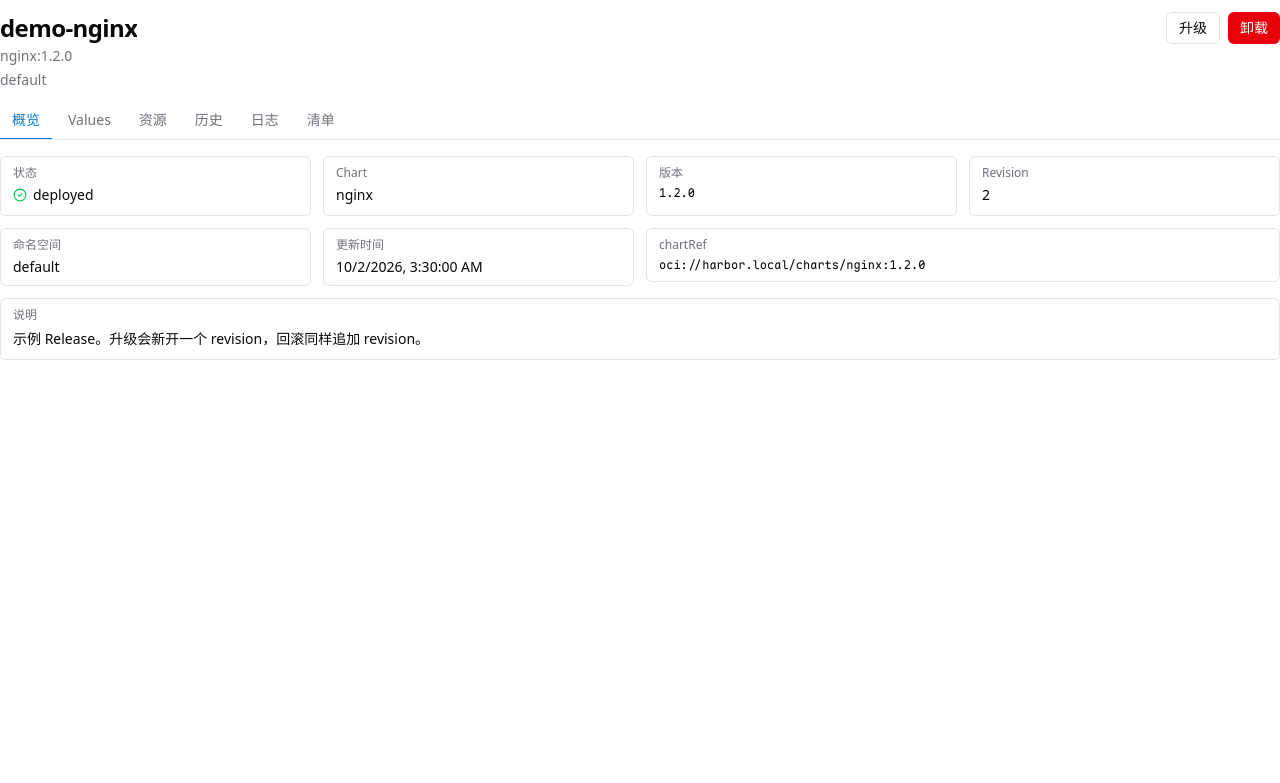
Scenario: helm pages › shows release detail tabs and the upgrade drawer
Click the tab "历史": click(209, 121) [183, 102, 235, 140]
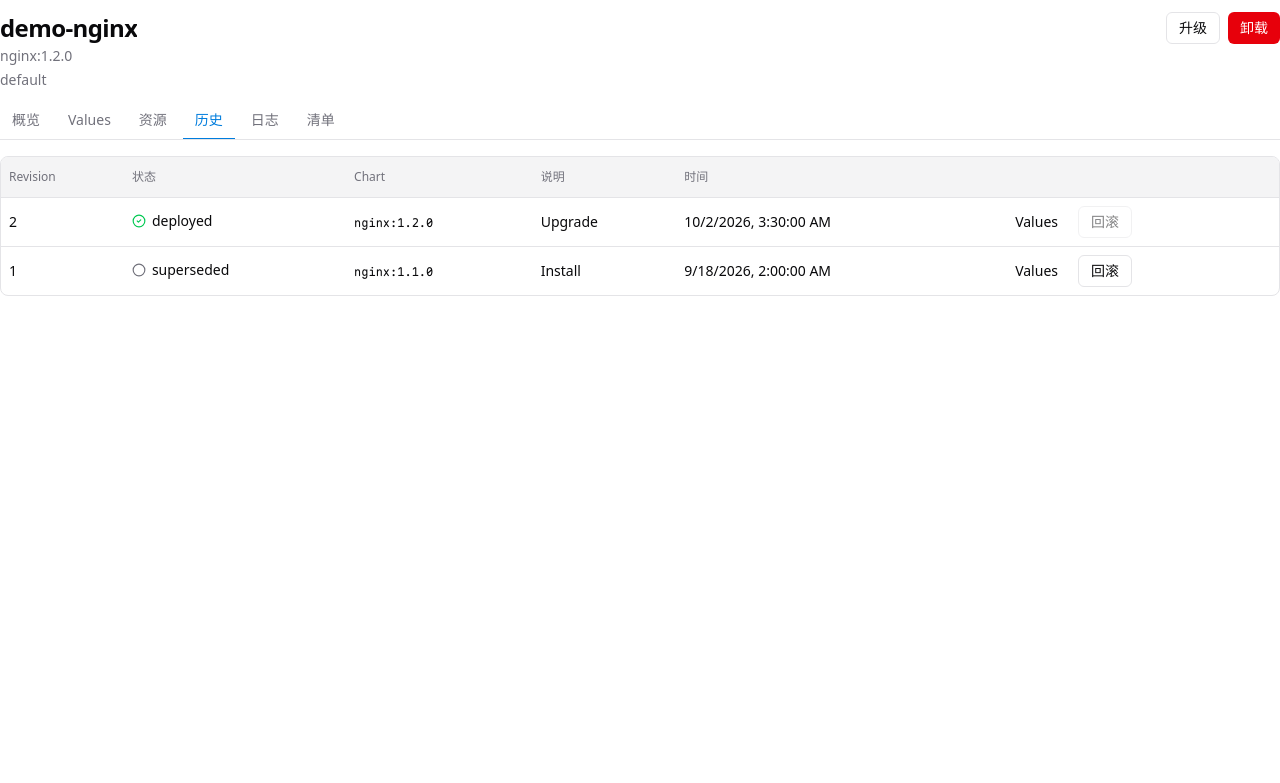
Click the button "升级": click(1193, 28) [1166, 12, 1220, 44]
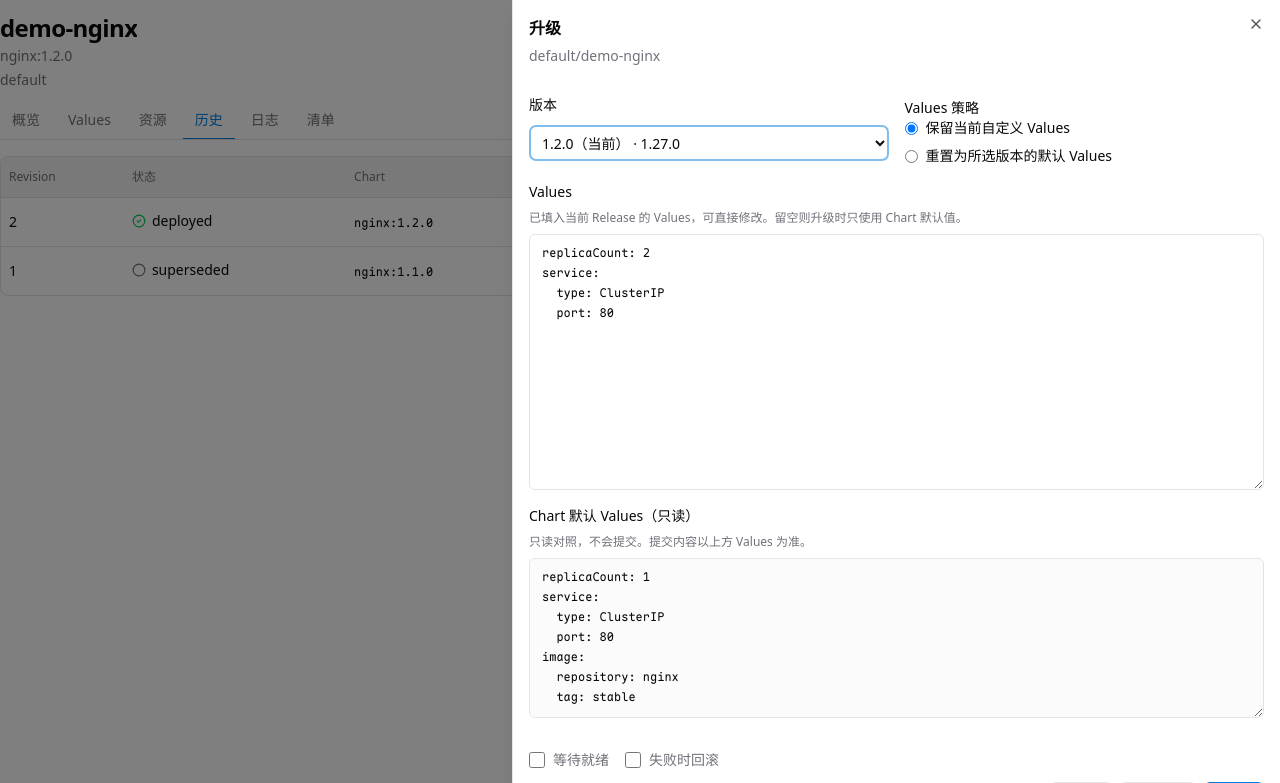
Check: the text "重置为所选版本的默认 Values" is shown, box [904, 146, 1112, 165]
Check: the text "只读对照，不会提交" is shown, box [529, 533, 812, 550]
